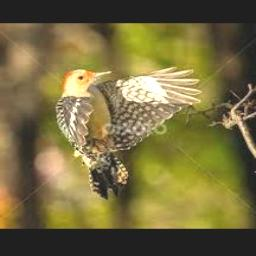Woodpecker: (55, 67, 201, 199)
